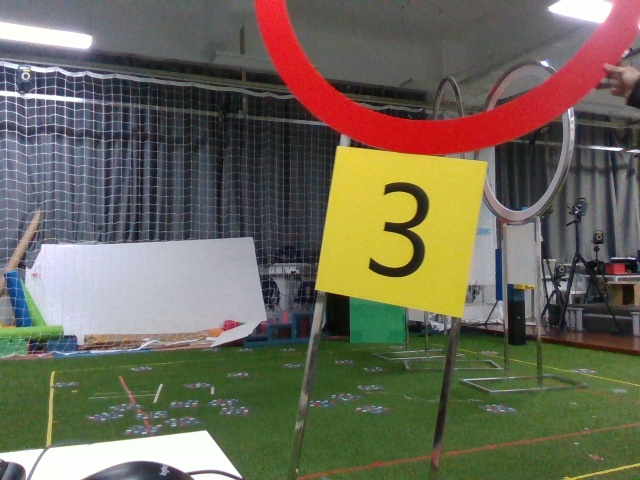target: (329, 154, 461, 295)
